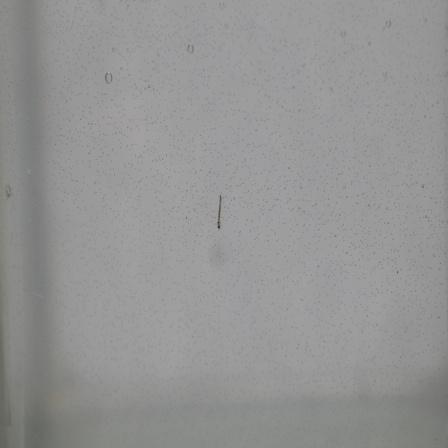Jentik-Nyamuk: (212, 190, 227, 234)
